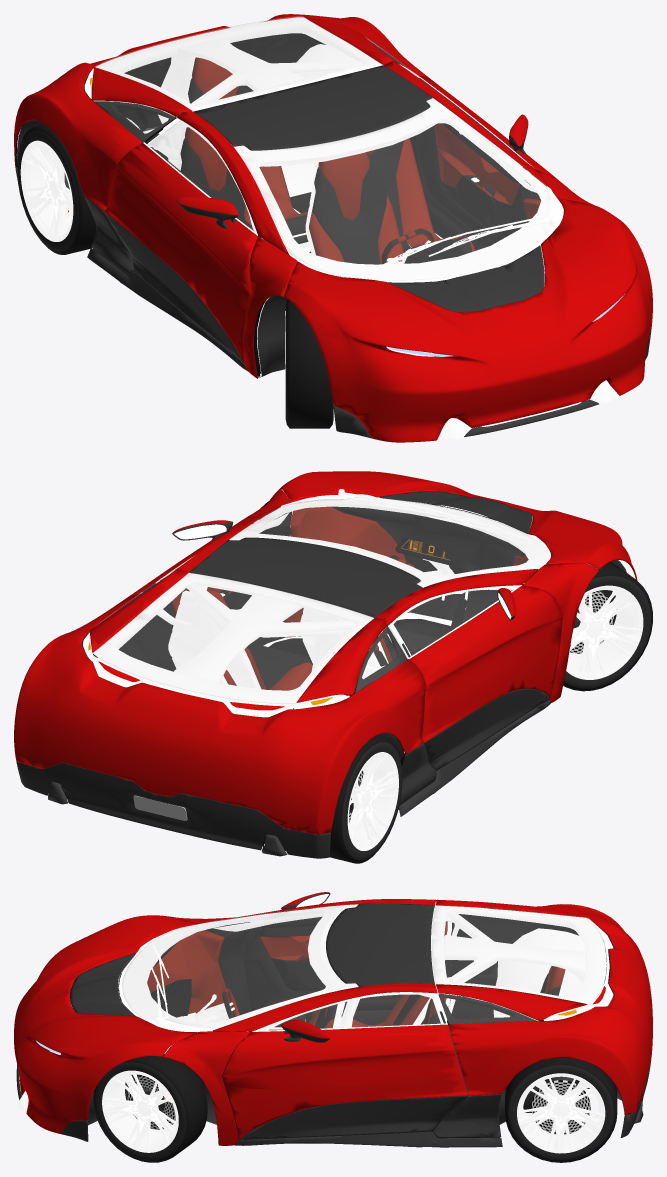
Rendered from car-concept.glb.
The picture shows the model from 3 angles, top to bottom: view 1: azimuth 30°, elevation 25°; view 2: azimuth 150°, elevation 25°; view 3: azimuth 270°, elevation 25°; orthographic projection. The views are drawn at different scales.
Visible parts, largest first — view 1: BodyRearPanelsColor1, BodyWindshield, BodyWindshieldGasket, BodyRoofPanel, InteriorDashSides, InteriorDashMid, InteriorSeatsColor2, object 21, WheelFrontLRim, BodyUnderside, InteriorMid, InteriorSteeringDash; view 2: BodyRearPanelsColor1, BodyWindshield, BodyRoofPanel, BodyWindshieldGasket, InteriorDashMid, WheelFrontLRim, object 21, InteriorDashSides, InteriorSeatsColor2, InteriorFloormats, InteriorSteeringDash, BodyUnderside (+3 smaller); view 3: BodyRearPanelsColor1, BodyWindshield, BodyRoofPanel, BodyWindshieldGasket, object 21, WheelFrontLRim, InteriorDashMid, InteriorDashSides, InteriorMid, WheelFrontLBrakeDisc, BodyUnderside, InteriorSeatsColor2 (+1 smaller).
Part boxes in pixels (box(x1,y1,x2,y2)): BodyRearPanelsColor1: box(14, 14, 652, 442); BodyWindshield: box(94, 16, 549, 280); BodyWindshieldGasket: box(16, 17, 618, 440); BodyRoofPanel: box(15, 65, 651, 438); InteriorDashSides: box(185, 57, 540, 264); InteriorDashMid: box(15, 33, 526, 281); InteriorSeatsColor2: box(180, 78, 472, 264); object 21: box(17, 124, 333, 428); WheelFrontLRim: box(20, 140, 285, 414); BodyUnderside: box(16, 78, 526, 377); InteriorMid: box(93, 173, 557, 376); InteriorSteeringDash: box(404, 239, 465, 263); BodyRearPanelsColor1: box(14, 471, 637, 834); BodyWindshield: box(92, 497, 547, 703); BodyRoofPanel: box(16, 491, 550, 858); BodyWindshieldGasket: box(83, 489, 635, 845); InteriorDashMid: box(48, 503, 528, 850); WheelFrontLRim: box(347, 585, 643, 850); object 21: box(260, 501, 652, 863); InteriorDashSides: box(171, 506, 528, 690); InteriorSeatsColor2: box(246, 628, 437, 689); InteriorFloormats: box(269, 598, 467, 659); InteriorSteeringDash: box(395, 533, 462, 566); BodyUnderside: box(48, 560, 626, 856); BodyRearPanelsColor1: box(14, 892, 652, 1145); BodyWindshield: box(122, 904, 606, 1030); BodyRoofPanel: box(16, 892, 652, 1147); BodyWindshieldGasket: box(18, 901, 613, 1143); object 21: box(93, 1054, 617, 1162); WheelFrontLRim: box(102, 1070, 605, 1153); InteriorDashMid: box(118, 907, 613, 1030); InteriorDashSides: box(147, 921, 565, 1028); InteriorMid: box(205, 922, 499, 1143); WheelFrontLBrakeDisc: box(127, 1075, 590, 1134); BodyUnderside: box(39, 927, 643, 1125); InteriorSeatsColor2: box(304, 973, 560, 1028).
Size of the model in its own units: 2.54 by 1.15 by 4.36.
Materials: 23 (2 with a texture image).
